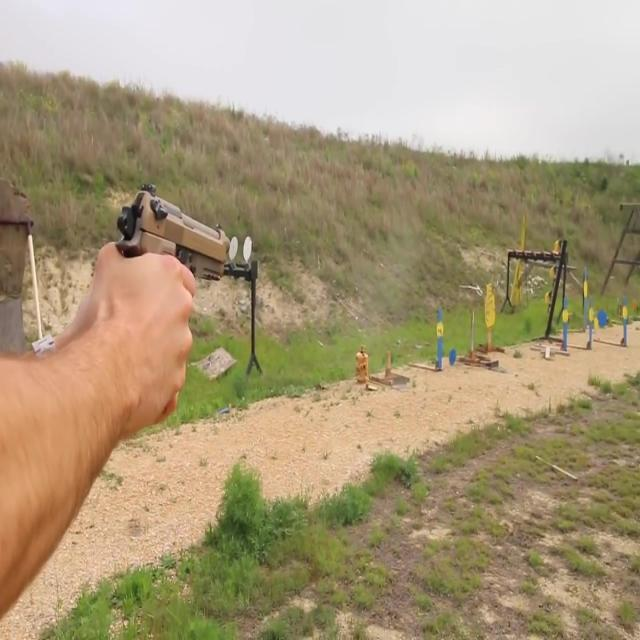Weapon: (93, 137, 270, 348)
